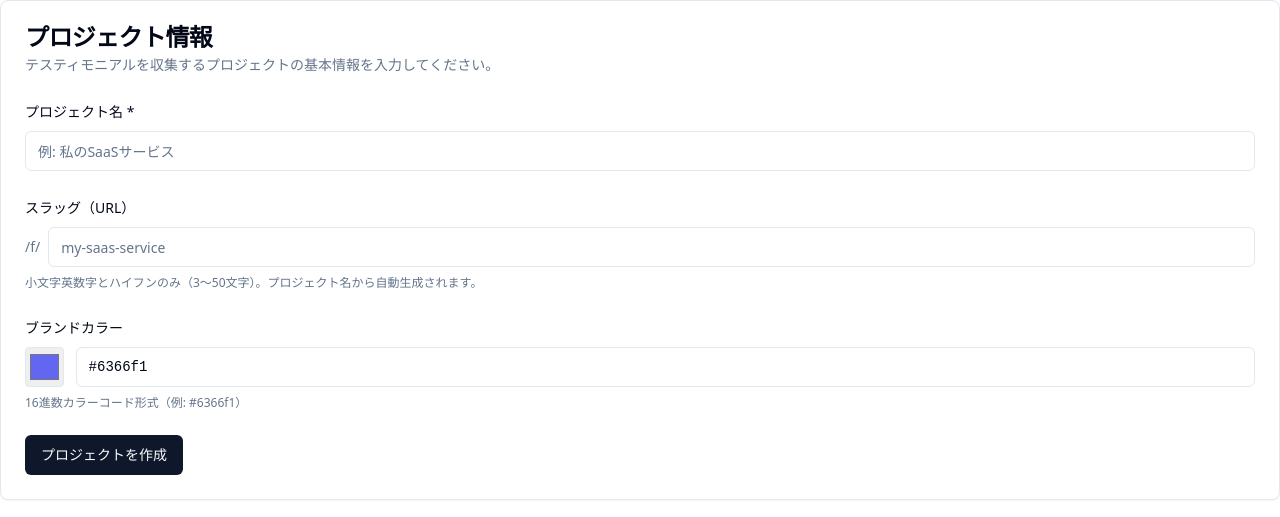
Test case: ProjectCreateForm › スラッグ自動生成 › プロジェクト名を入力するとスラッグが自動生成される
Type "My Project" into the field labelled "プロジェクト名 *" at (640, 151), box top-left (25, 131), bottom-right (1255, 171)
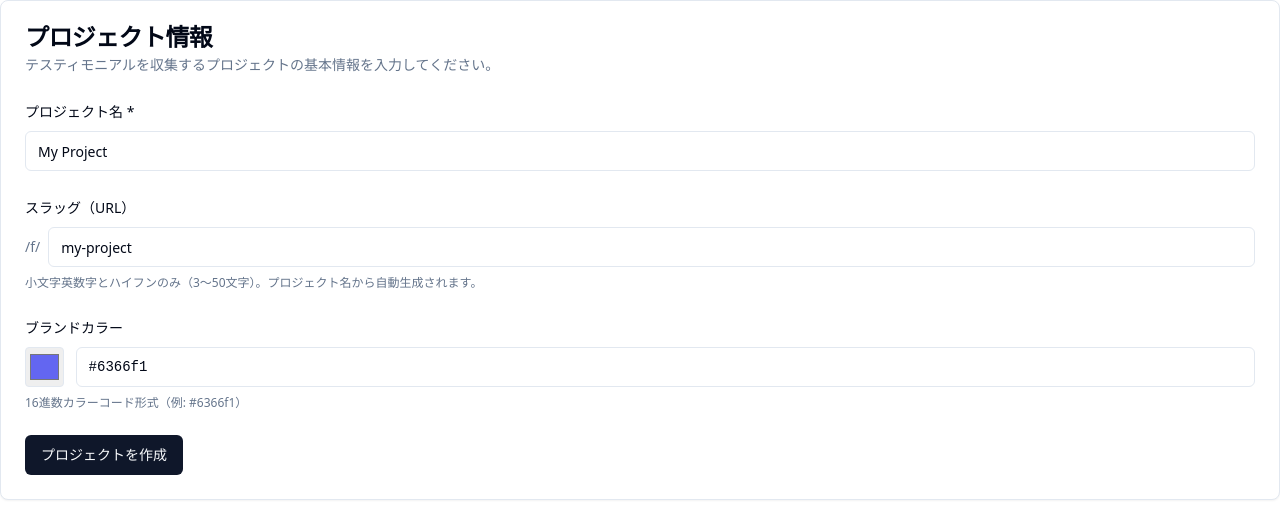
expect the field labelled "スラッグ（URL）" holds "my-project": met, box top-left (48, 227), bottom-right (1255, 267)
